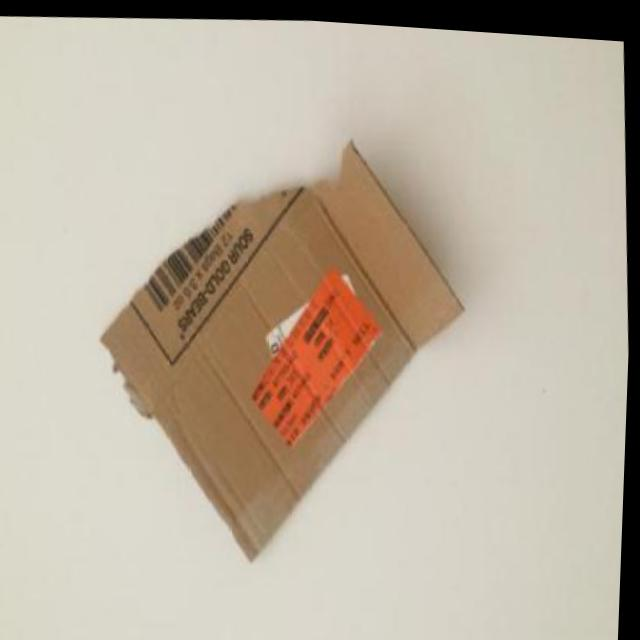box: (50, 108, 510, 611)
